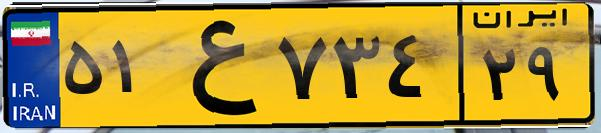1: (110, 28, 158, 98)
2: (475, 38, 525, 113)
3: (330, 28, 385, 110)
4: (385, 28, 445, 110)
5: (57, 26, 110, 100)
7: (270, 28, 330, 110)
9: (525, 38, 570, 115)
ع: (158, 12, 270, 120)
